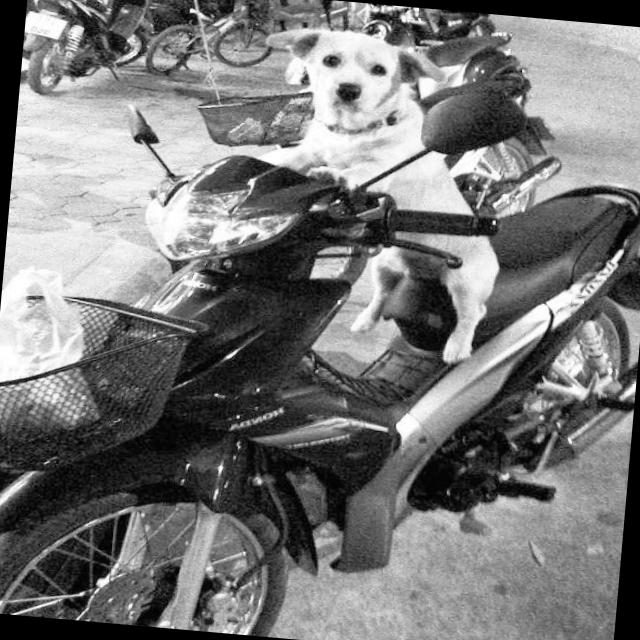Motorcycle: (0, 145, 640, 640), (19, 0, 210, 99)
